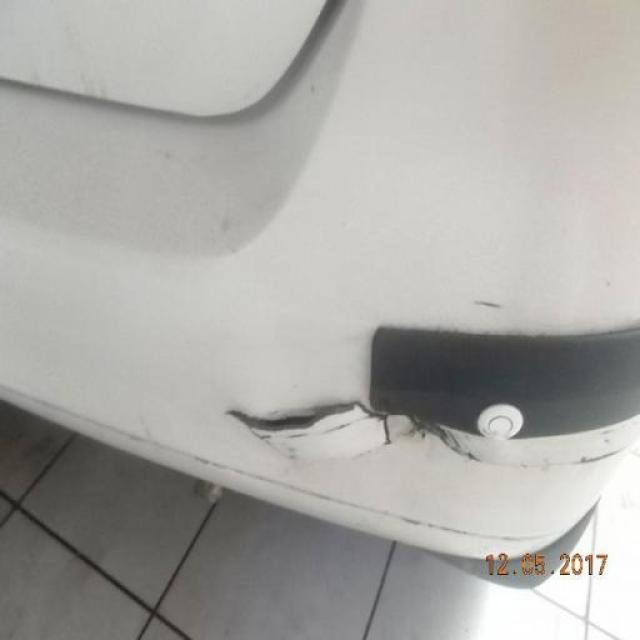tear: (225, 388, 636, 474)
